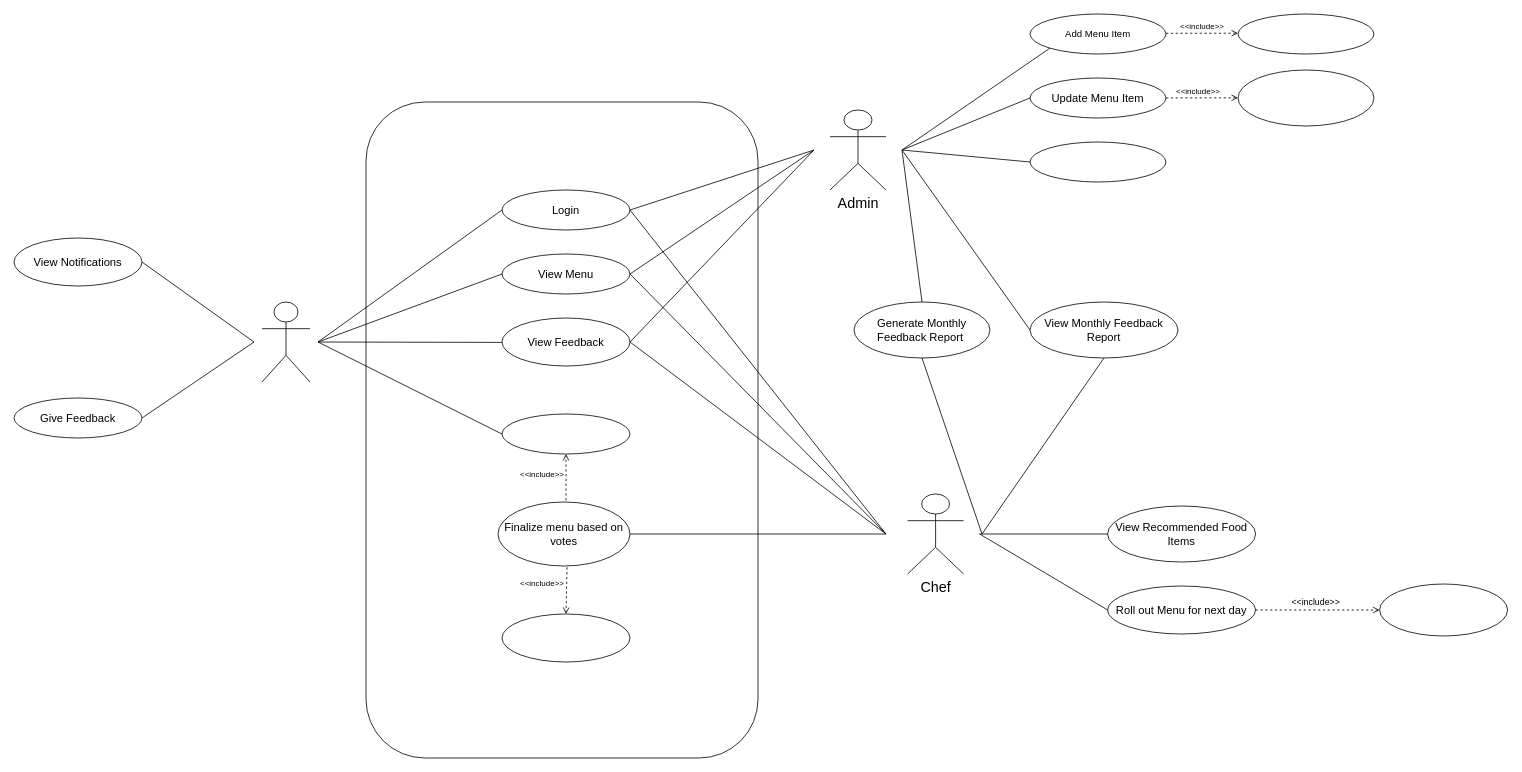
Image size: 1522x772. Some labels were removed from this diagram. The shapes that lost their labels are listed below. From the top down, each one's centre as x and y in pixels, then its label:
At (1305,33): "Notify new food item".
At (1305,97): "Notify Availability status of Food item".
At (1097,161): "Delete Menu Item".
At (285,341): "Employee".
At (565,433): "Choose Menu items".
At (1443,609): "Notify Employees for voting".
At (565,637): "Notify the final menu to users".
